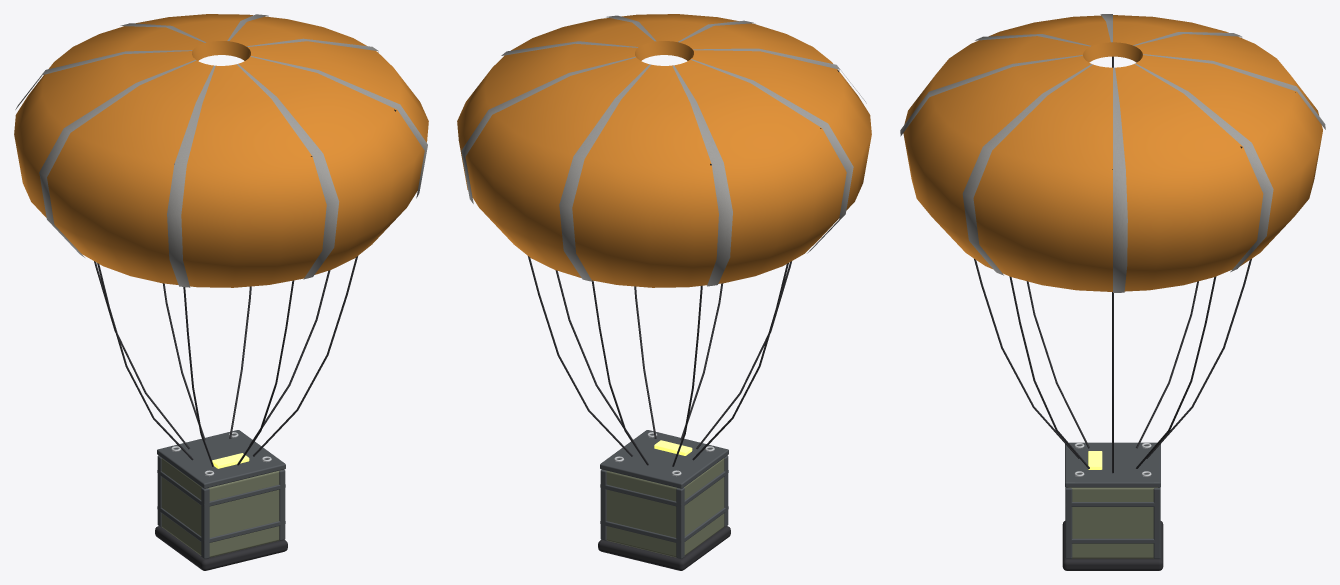
File: battle-royale-town-and-airfield-supply-drop-parachute-bc0ed352__28232.glb
3 views of the same model, side by side, from view 1: azimuth 30°, elevation 25°; view 2: azimuth 150°, elevation 25°; view 3: azimuth 270°, elevation 25° (orthographic).
Parts seen in each view (by area): view 1: supply-drop-parachute; view 2: supply-drop-parachute; view 3: supply-drop-parachute.
Part boxes in pixels (left/top/right/bottom): supply-drop-parachute: left=14, top=14, right=428, bottom=570; supply-drop-parachute: left=457, top=14, right=871, bottom=570; supply-drop-parachute: left=900, top=14, right=1325, bottom=570.
Size of the model in its own units: 4.82 by 6.2 by 4.82.
Materials: 7 (1 with a texture image).
